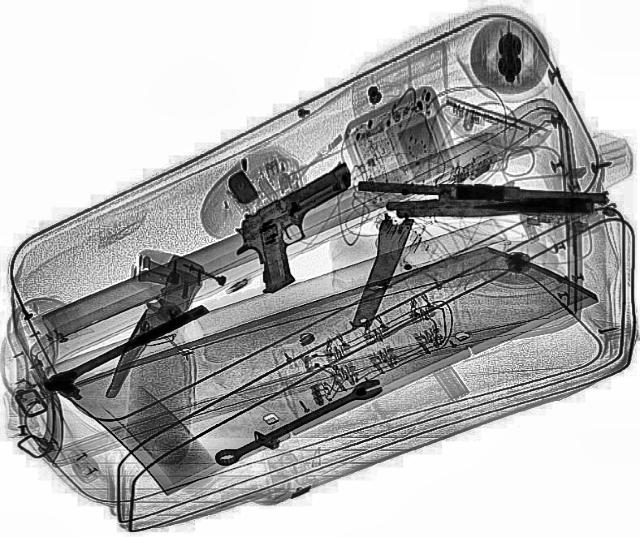Gun: (210, 160, 404, 296)
Wrench: (211, 374, 389, 472)
